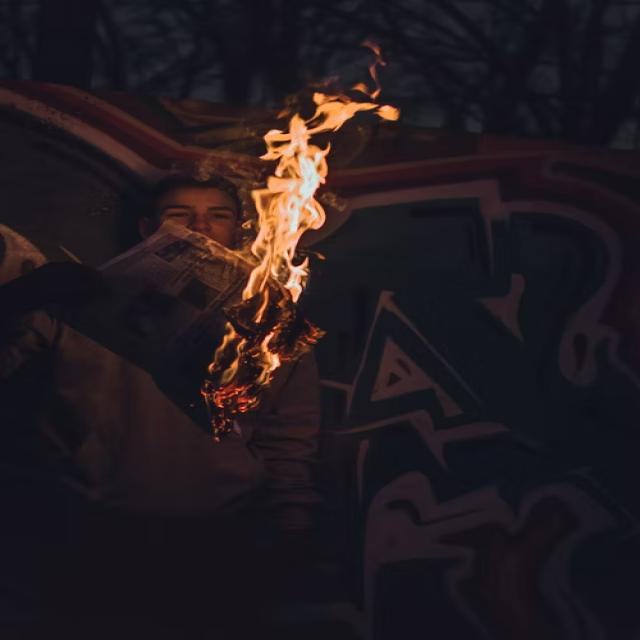fire: (198, 141, 336, 443), (264, 38, 400, 140)
